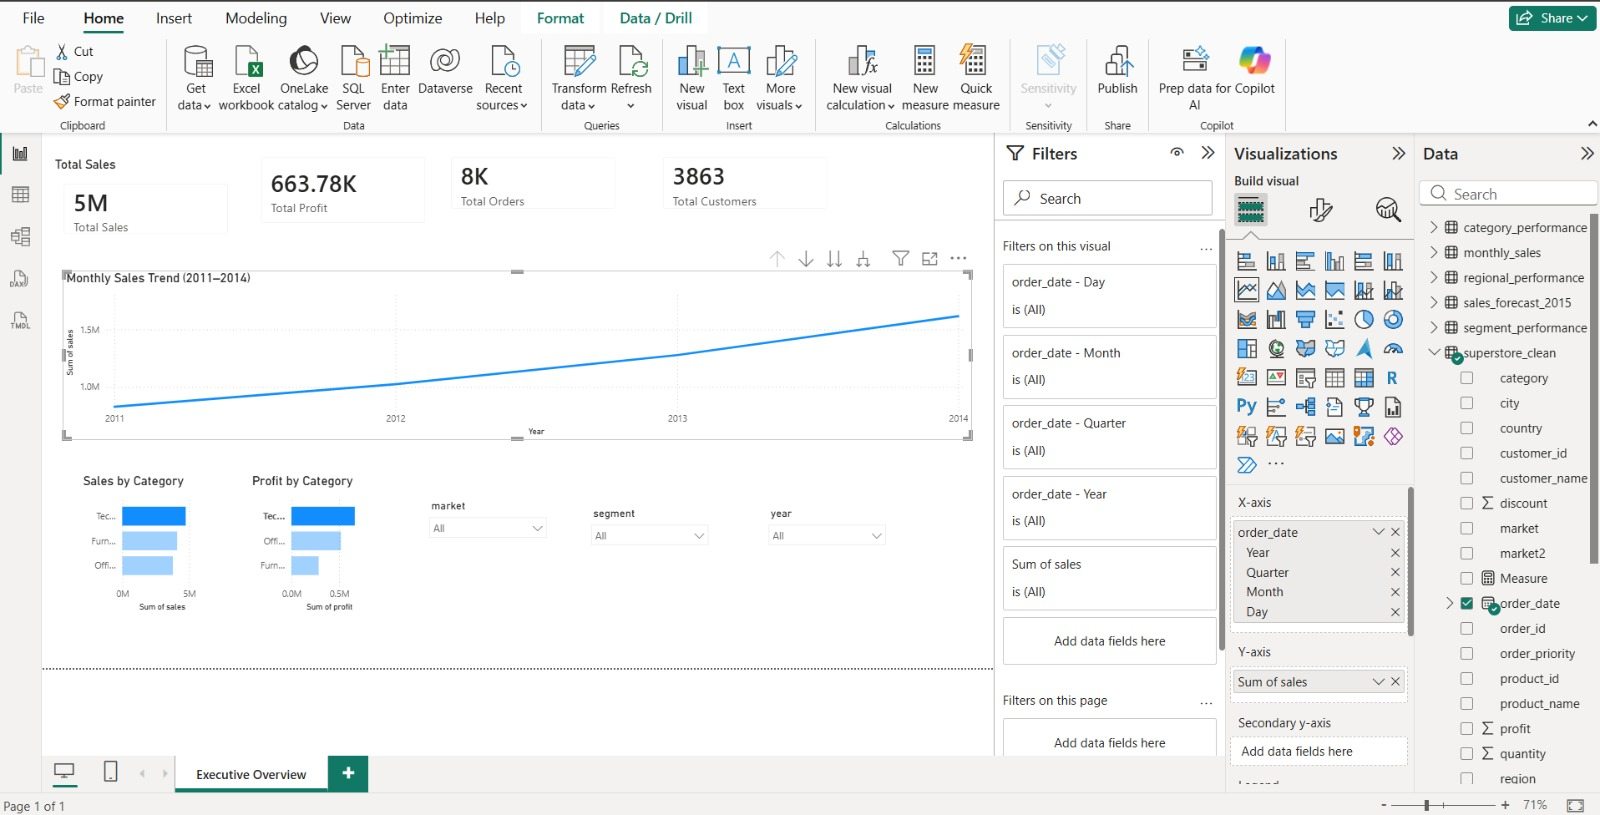

This screenshot's page, from the dashboard's own definition file:
{"tool":"powerbi","page":{"name":"Executive Overview","canvas":[1280,720],"ordinal":0},"visuals":[{"type":"cardVisual","title":"Total Sales","fields":{"Data":["superstore_clean.Total Sales"]},"box":[12.3,32.9,255.2,122.1],"z":0},{"type":"cardVisual","fields":{"Data":["superstore_clean.Total Profit"]},"box":[278.6,15.1,255.2,123.5],"z":1000},{"type":"cardVisual","fields":{"Data":["superstore_clean.Total Orders"]},"box":[533.8,15.1,255.2,104.3],"z":2000},{"type":"cardVisual","fields":{"Data":["superstore_clean.Total Customers"]},"box":[817.8,15.1,255.2,104.3],"z":3000},{"type":"lineChart","title":"Monthly Sales Trend (2011–2014)","fields":{"Category":["superstore_clean.order_date.Variation.Date Hierarchy.Year","superstore_clean.order_date.Variation.Date Hierarchy.Quarter","superstore_clean.order_date.Variation.Date Hierarchy.Month","superstore_clean.order_date.Variation.Date Hierarchy.Day"],"Y":["Sum(superstore_clean.sales)"]},"box":[28.1,185.3,1222.7,227.4],"z":4000},{"type":"clusteredBarChart","title":"Sales by Category","fields":{"Category":["superstore_clean.category"],"Y":["Sum(superstore_clean.sales)"]},"box":[50.5,457.6,179.7,190.9],"z":5000},{"type":"clusteredBarChart","title":"Profit by Category","fields":{"Category":["superstore_clean.category"],"Y":["Sum(superstore_clean.profit)"]},"box":[278,457.6,179.7,190.9],"z":6000},{"type":"slicer","fields":{"Values":["superstore_clean.market"]},"box":[511,488.5,178.3,150.2],"z":7000},{"type":"slicer","fields":{"Values":["superstore_clean.segment"]},"box":[728.6,498.4,178.3,150.2],"z":8000},{"type":"slicer","fields":{"Values":["superstore_clean.year"]},"box":[967.2,498.4,178.3,150.2],"z":9000}]}

Visuals, with their boxes on the page's 1280x720 design canvas (x1, y1, x2, y2). These are canvas units, not pixel positions in the 1600x815 screenshot, which may show the page scaled, cropped or inside an application window:
"Total Sales" cardVisual: Rect(12, 33, 268, 155)
cardVisual - superstore_clean.Total Profit: Rect(279, 15, 534, 139)
cardVisual - superstore_clean.Total Orders: Rect(534, 15, 789, 119)
cardVisual - superstore_clean.Total Customers: Rect(818, 15, 1073, 119)
"Monthly Sales Trend (2011–2014)" lineChart: Rect(28, 185, 1251, 413)
"Sales by Category" clusteredBarChart: Rect(50, 458, 230, 648)
"Profit by Category" clusteredBarChart: Rect(278, 458, 458, 648)
slicer - superstore_clean.market: Rect(511, 488, 689, 639)
slicer - superstore_clean.segment: Rect(729, 498, 907, 649)
slicer - superstore_clean.year: Rect(967, 498, 1146, 649)
